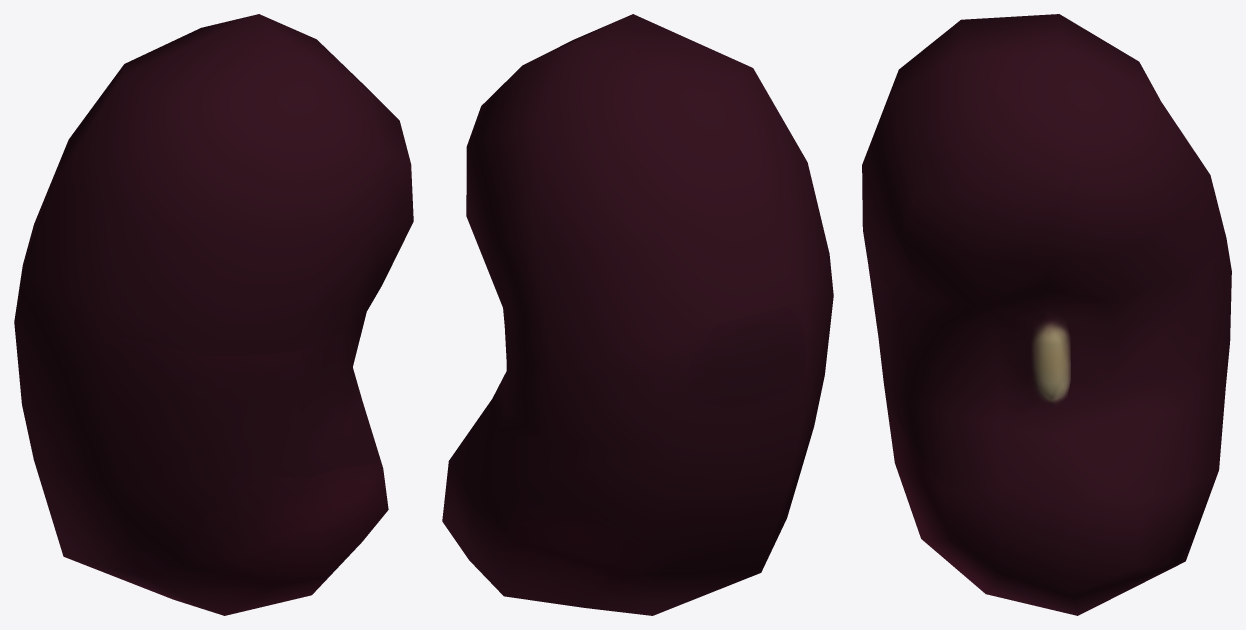
The model's file is redbean2.fbx.
3 views of the same model, side by side, from view 1: azimuth 30°, elevation 25°; view 2: azimuth 150°, elevation 25°; view 3: azimuth 270°, elevation 25° (orthographic). The views are drawn at different scales.
Parts seen in each view (by area): view 1: Cube.002; view 2: Cube.002; view 3: Cube.002.
Part boxes in pixels (x1,y1,x2,y2): Cube.002: (14,14,413,615); Cube.002: (442,14,833,615); Cube.002: (862,14,1231,615).
Bounding box in the file's own units: 192 × 299 × 181.
